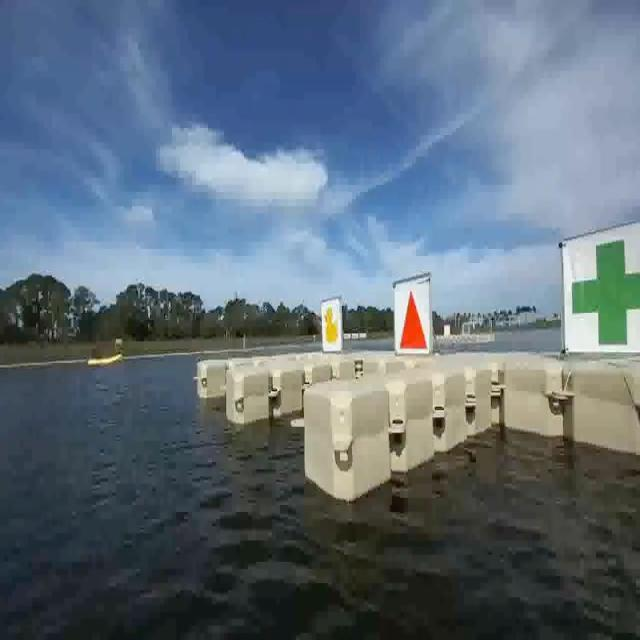blue-cross: (561, 223, 640, 353)
yellow-duck: (320, 295, 343, 354)
